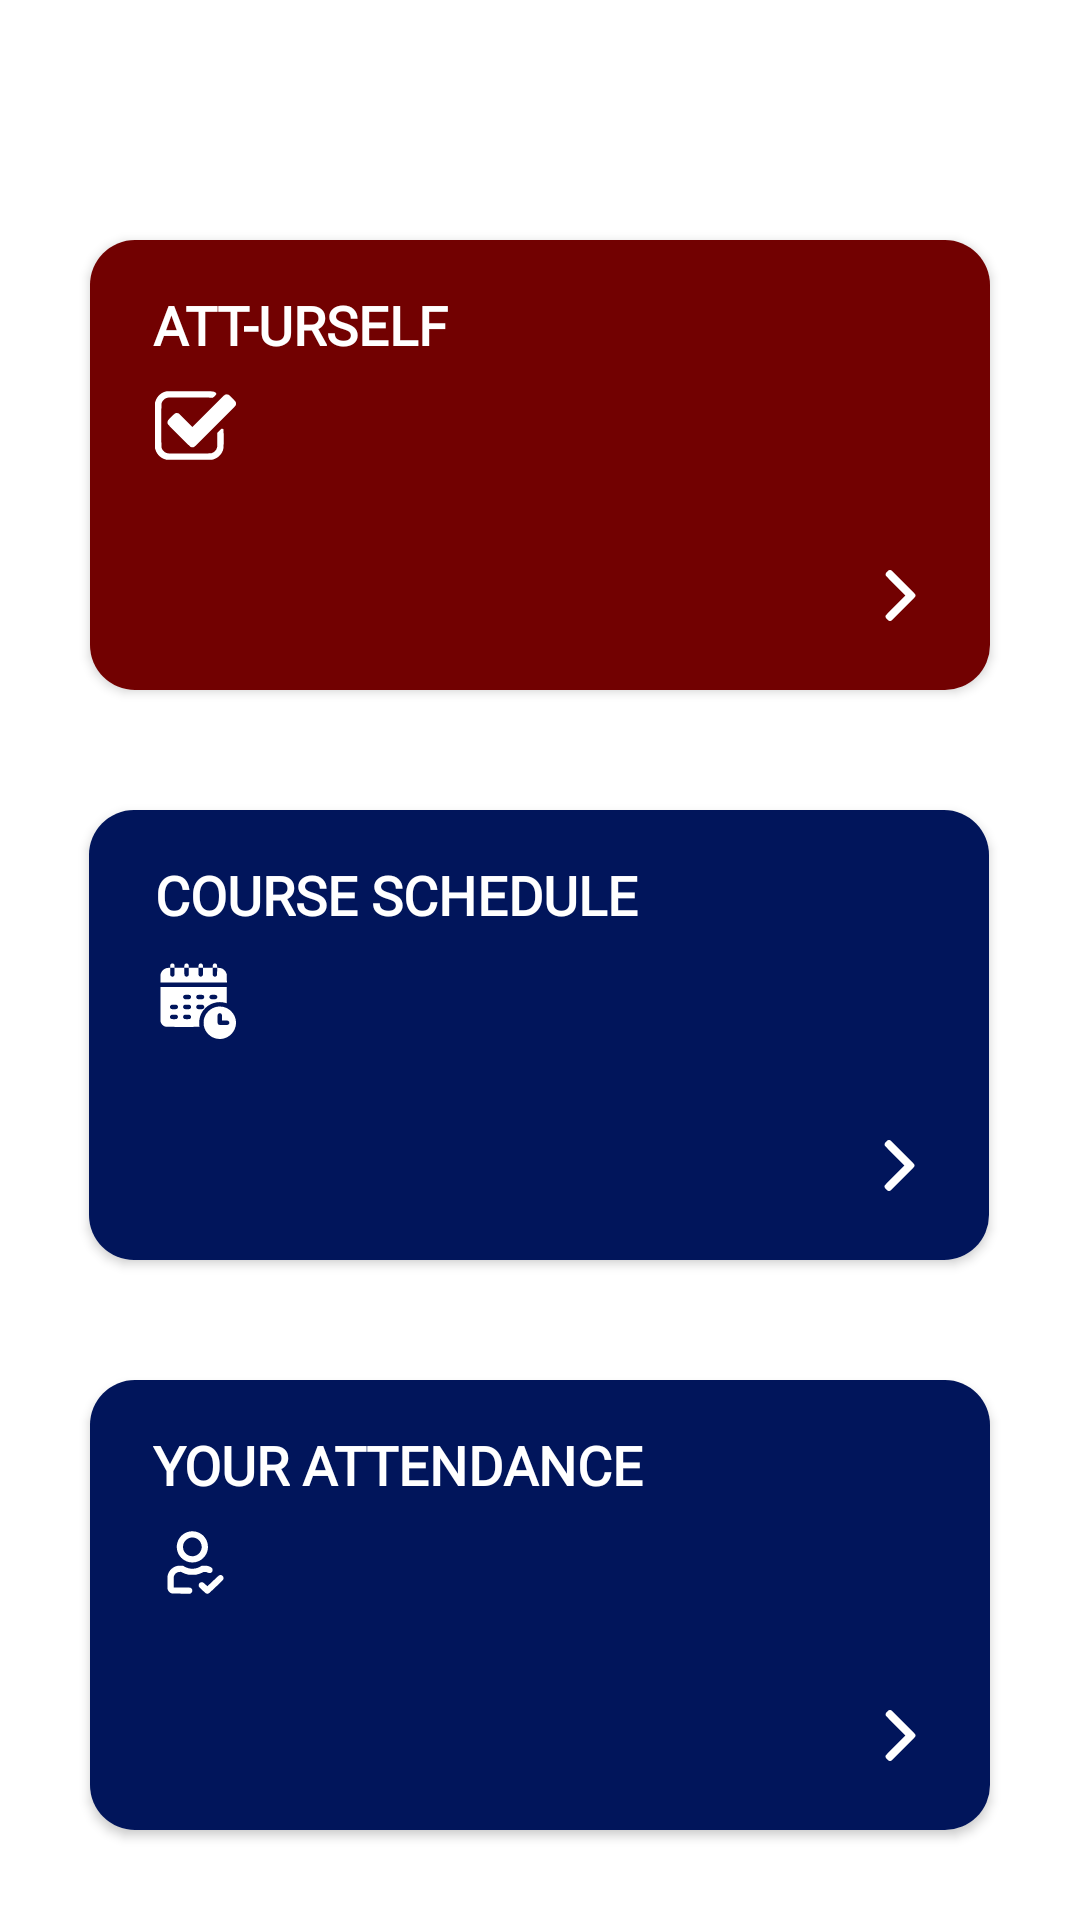

Named icons in this screenshot (1080px x 1920px) and their bounding boxes, (x1, y1, x2, y2):
attandance: (167, 1531, 224, 1594)
calendar: (160, 963, 236, 1039)
check: (155, 391, 236, 460)
right arrow: (885, 570, 916, 621), (884, 1140, 915, 1191), (885, 1710, 916, 1761)
